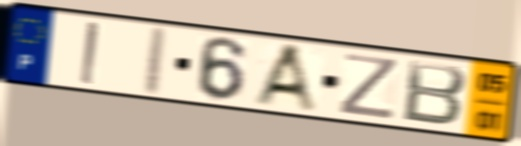6: (196, 35, 251, 105)
A: (250, 41, 322, 116)
B: (400, 57, 469, 129)
I: (139, 23, 171, 98), (78, 19, 101, 88)
Z: (336, 51, 401, 122)
